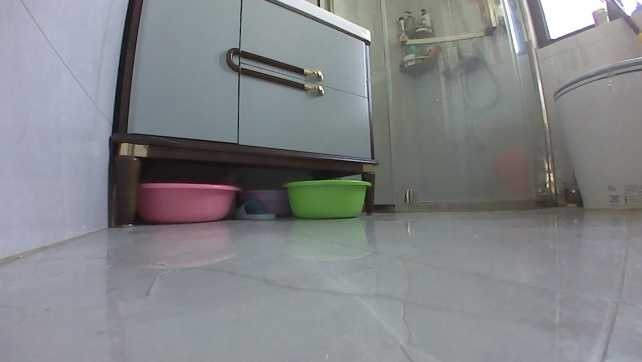slipper: (233, 195, 276, 223)
toilet: (552, 52, 640, 214)
